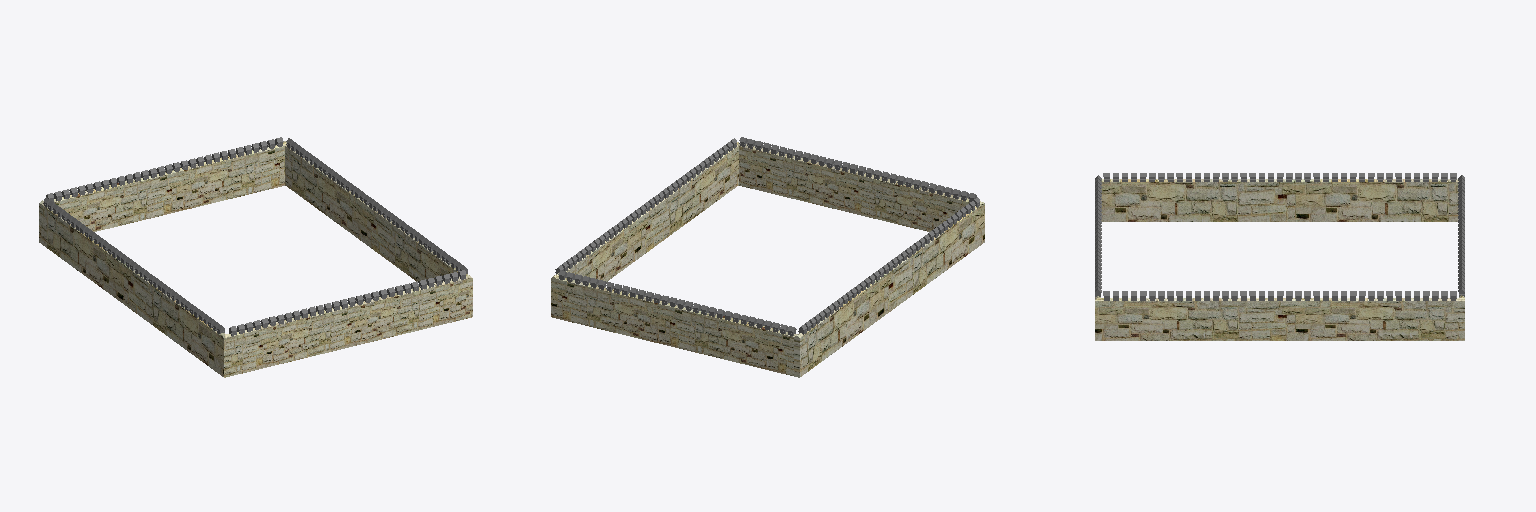
The picture shows the model from 3 angles: view 1: azimuth 30°, elevation 25°; view 2: azimuth 150°, elevation 25°; view 3: azimuth 270°, elevation 25°; orthographic projection.
Visible parts, largest first — view 1: Object.1, Object.4, Object.3, Object.2; view 2: Object.4, Object.1, Object.3, Object.2; view 3: Object.2, Object.3.
Boxes of the visible parts, <box> form: Object.1: <box>224,275,472,377</box>; Object.4: <box>54,142,285,231</box>; Object.3: <box>39,200,224,376</box>; Object.2: <box>283,141,469,282</box>; Object.4: <box>551,275,797,375</box>; Object.1: <box>738,142,969,231</box>; Object.3: <box>794,201,984,377</box>; Object.2: <box>552,142,738,281</box>; Object.2: <box>1095,298,1464,340</box>; Object.3: <box>1101,179,1458,221</box>.
Size of the model in its own units: 61.14 by 11.26 by 78.83.
2 materials, 1 textured.